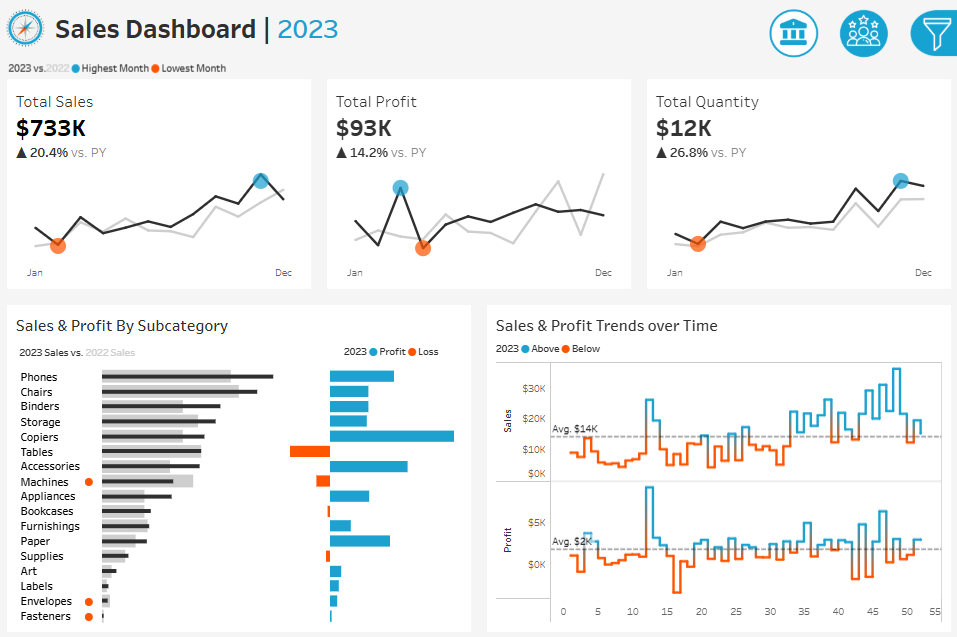

The dashboard page shown, as its layout file describes it:
{"tool":"tableau","page":{"name":"Sales Dashboard","canvas":[1200,800],"ordinal":1},"visuals":[{"type":"image","param":"Image/Icon - Logo.png","box":[0,0,66,70]},{"type":"text","box":[66,0,866,70]},{"type":"dashboard-object","box":[950,7,88,70]},{"type":"dashboard-object","box":[1038,7,87,70]},{"type":"blank","box":[965,10,225,95]},{"type":"worksheet","title":"Legend KPI","mark":"Automatic","box":[0,70,1200,29]},{"type":"worksheet","title":"KPI Sales","mark":"Automatic","rows":["Calculation_1407374900418445316"],"cols":["Order Date"],"box":[0,99,400,272]},{"type":"worksheet","title":"KPI Profit","mark":"Automatic","rows":["Min/Max Sales (copy)_762515729195421702"],"cols":["Order Date"],"box":[400,99,400,272]},{"type":"worksheet","title":"KPI Quantity","mark":"Automatic","rows":["Min/Max Profit (copy)_762515729195880456"],"cols":["Order Date"],"box":[800,99,400,272]},{"type":"text","box":[965,105,225,34]},{"type":"parameter","param":"[Parameters].[Parameter 1]","box":[965,139,225,52]},{"type":"text","box":[965,191,225,29]},{"type":"filter","title":"KPI Sales","param":"[federated.10qj6ag14nijd81acj69e0wgoz1s].[none:Category:nk]","box":[965,220,225,52]},{"type":"filter","title":"KPI Sales","param":"[federated.10qj6ag14nijd81acj69e0wgoz1s].[none:Sub-Category:nk]","box":[965,272,225,52]},{"type":"blank","box":[965,324,225,60]},{"type":"text","box":[965,384,225,29]},{"type":"text","box":[17,388,566,34]},{"type":"text","box":[617,388,566,34]},{"type":"filter","title":"KPI Sales","param":"[federated.10qj6ag14nijd81acj69e0wgoz1s].[none:Region:nk]","box":[965,413,225,52]},{"type":"worksheet","title":"Legend Subcategory","mark":"Automatic","box":[17,422,410,34]},{"type":"text","box":[427,422,156,34]},{"type":"text","box":[617,422,566,25]},{"type":"worksheet","title":"Weekly Trends","mark":"Automatic","rows":["Calculation_1407374900412940288","CY Sales (copy)_762515729184894976"],"cols":["Order Date"],"box":[617,447,566,336]},{"type":"worksheet","title":"Subcategory Comparison","mark":"Bar","rows":["Sub-Category","Calculation_1017340769767424"],"cols":["CY Sales (copy)_1407374900413317121","Calculation_1407374900412940288","CY Sales (copy)_762515729184894976"],"box":[17,456,566,326.9]},{"type":"filter","title":"KPI Sales","param":"[federated.10qj6ag14nijd81acj69e0wgoz1s].[none:State:nk]","box":[965,465,225,52]},{"type":"filter","title":"KPI Sales","param":"[federated.10qj6ag14nijd81acj69e0wgoz1s].[none:City:nk]","box":[965,517,225,52]}]}

Visuals, with their boxes in screenshot pixels (x1, y1, x2, y2), scaled from the page's 1200x800 canvas onto the 957x637 screenshot:
image: rect(0, 0, 53, 56)
text: rect(53, 0, 743, 56)
dashboard-object: rect(758, 6, 828, 61)
dashboard-object: rect(828, 6, 897, 61)
blank: rect(770, 8, 949, 84)
"Legend KPI" worksheet: rect(0, 56, 956, 79)
"KPI Sales" worksheet: rect(0, 79, 319, 295)
"KPI Profit" worksheet: rect(319, 79, 638, 295)
"KPI Quantity" worksheet: rect(638, 79, 956, 295)
text: rect(770, 84, 949, 111)
parameter: rect(770, 111, 949, 152)
text: rect(770, 152, 949, 175)
"KPI Sales" filter: rect(770, 175, 949, 217)
"KPI Sales" filter: rect(770, 217, 949, 258)
blank: rect(770, 258, 949, 306)
text: rect(770, 306, 949, 329)
text: rect(14, 309, 465, 336)
text: rect(492, 309, 943, 336)
"KPI Sales" filter: rect(770, 329, 949, 370)
"Legend Subcategory" worksheet: rect(14, 336, 341, 363)
text: rect(341, 336, 465, 363)
text: rect(492, 336, 943, 356)
"Weekly Trends" worksheet: rect(492, 356, 943, 623)
"Subcategory Comparison" worksheet (Bar marks): rect(14, 363, 465, 623)
"KPI Sales" filter: rect(770, 370, 949, 412)
"KPI Sales" filter: rect(770, 412, 949, 453)
